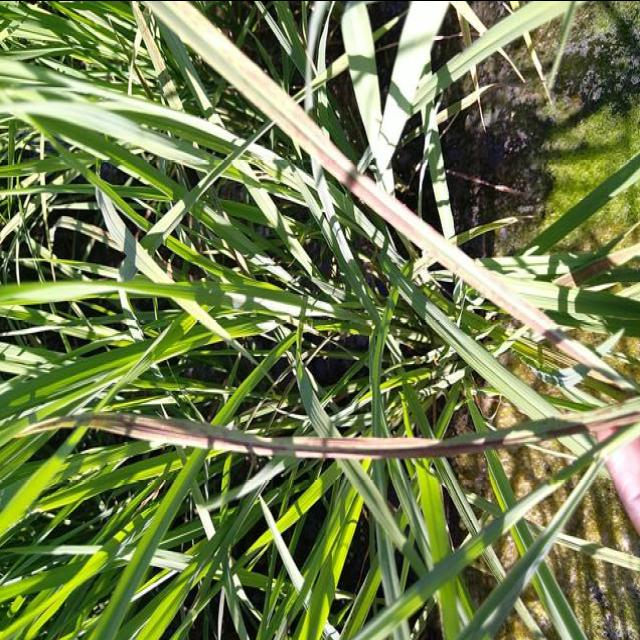Leaf Streak: (140, 0, 638, 391), (23, 396, 640, 458)
